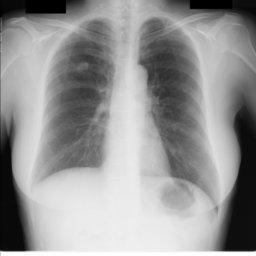left lobe: (140, 18, 220, 202)
right lobe: (35, 20, 115, 180)
